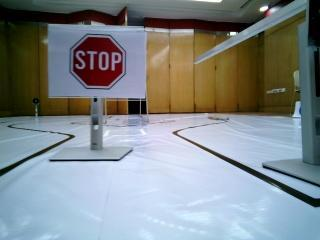stop: (47, 27, 146, 94)
